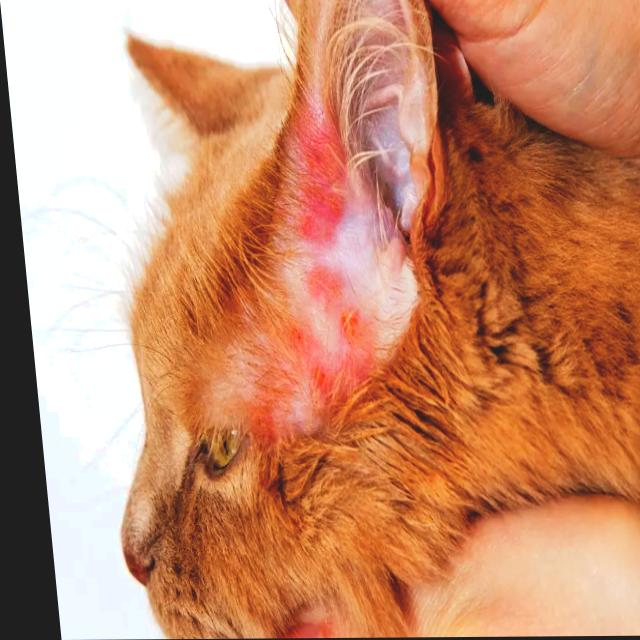ringworm: (253, 94, 373, 443)
